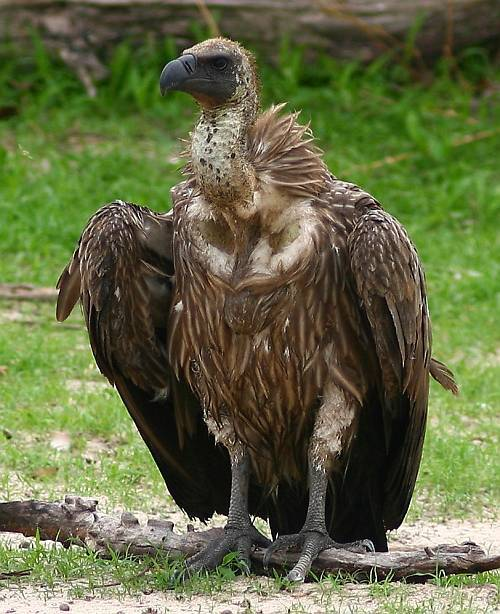Pengoyak Daging: (146, 46, 193, 98)
